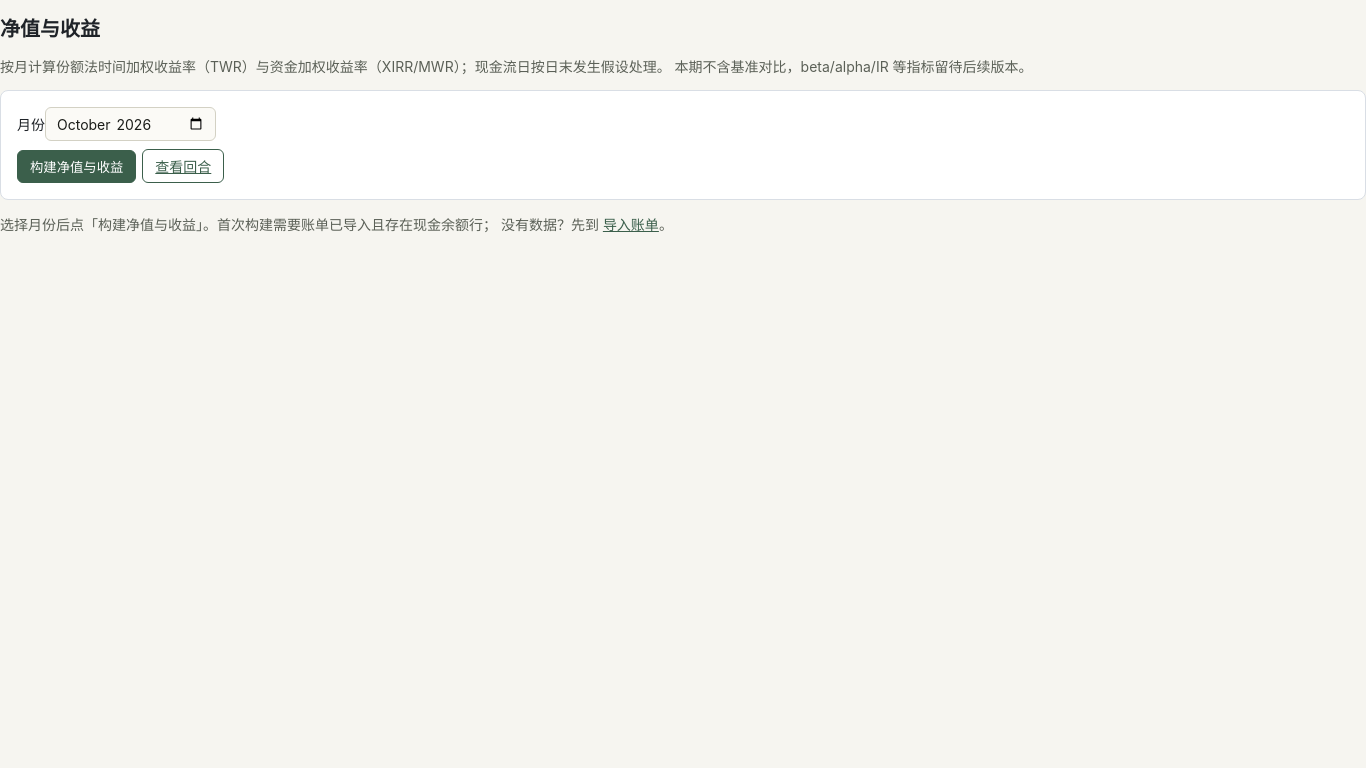
Test: Nav 净值与收益页 › 点击构建后展示汇总指标与每日净值
Replace the text in the field labelled "月份" with "2026-06" at (130, 124), box x1=45 y1=107 x2=216 y2=141
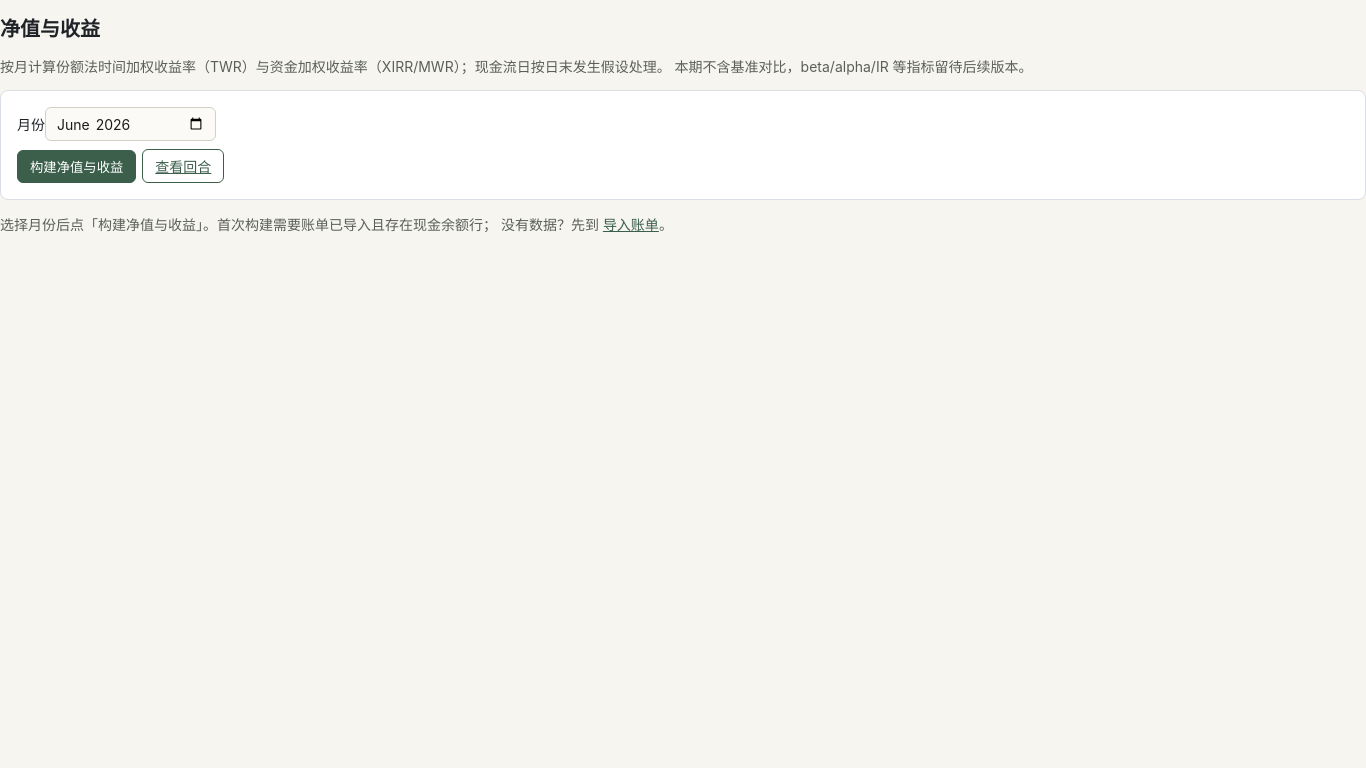
Click the button "构建净值与收益".
click(77, 166)  # box x1=17 y1=150 x2=136 y2=183
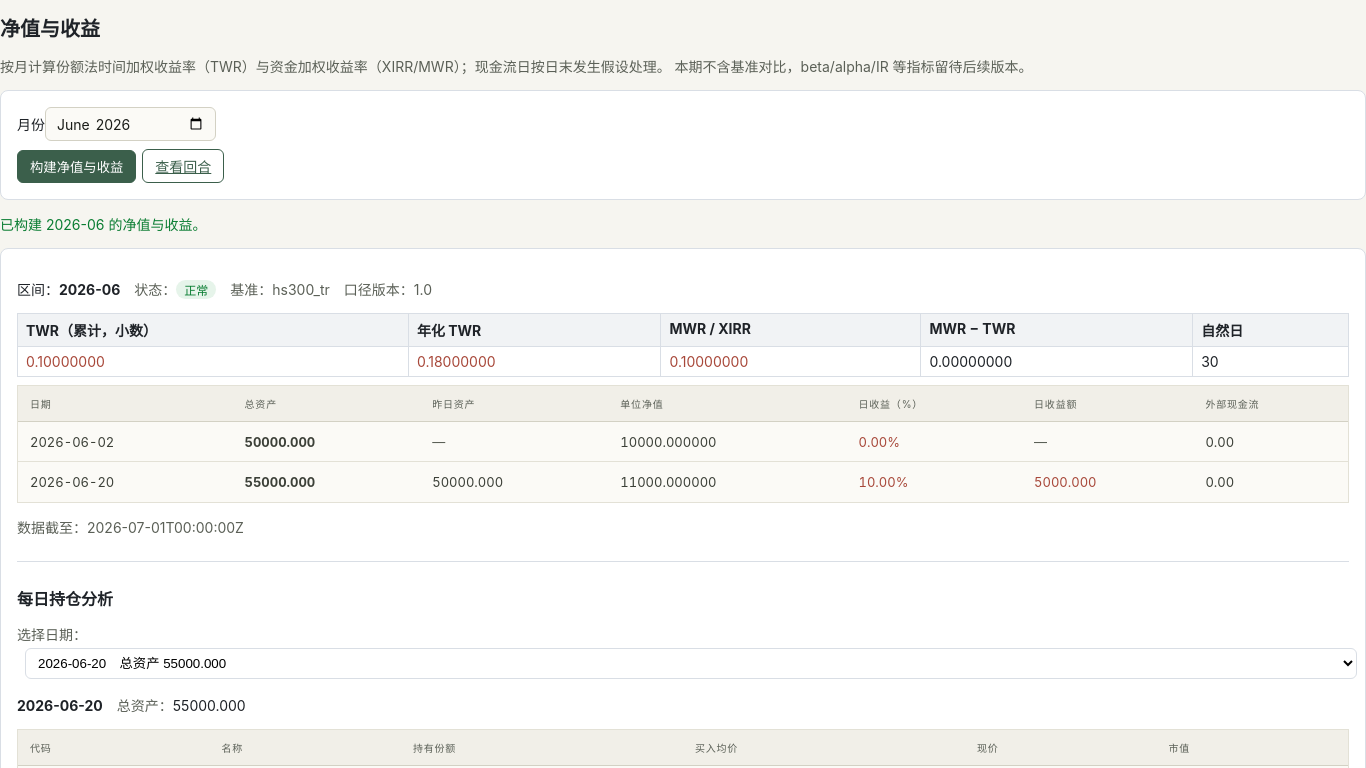
Result: the text "已构建 2026-06 的净值与收益。" is shown at x1=0 y1=216 x2=206 y2=233
Result: the table with test id "nav-summary" is shown at x1=17 y1=313 x2=1349 y2=377
Result: the text "0.18000000" is shown at x1=417 y1=353 x2=496 y2=370
